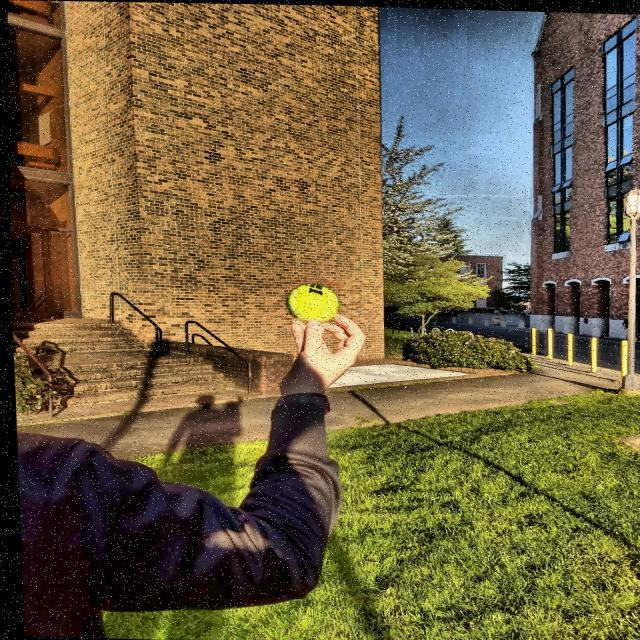tennis-ball: (282, 278, 340, 326)
